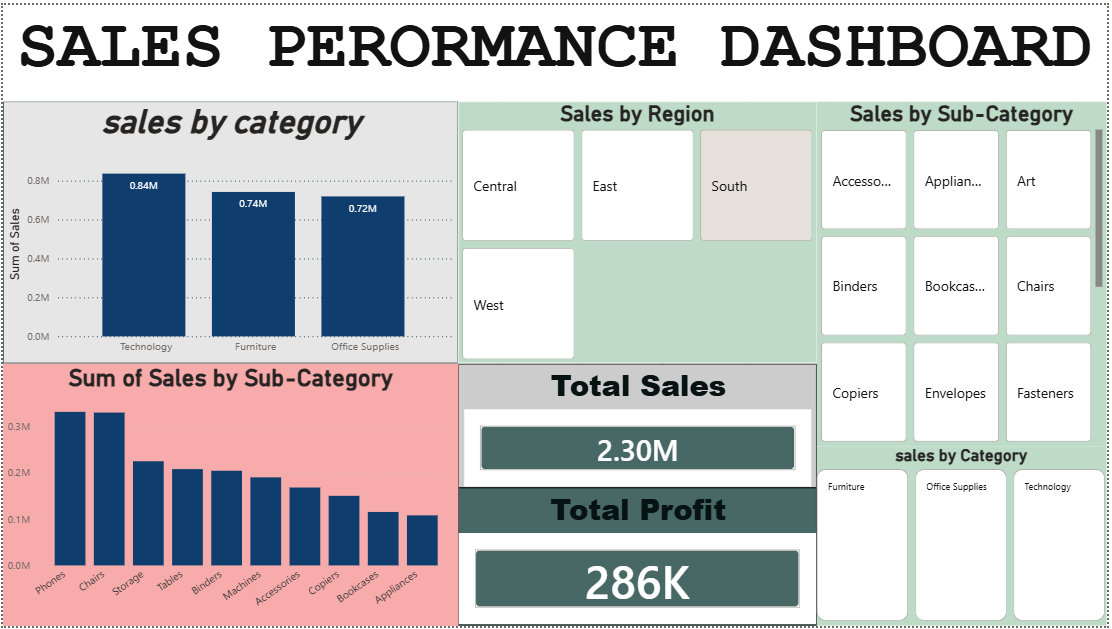

What the dashboard file says about the page in this screenshot:
{"tool":"powerbi","page":{"name":"Page 1","canvas":[1280,720],"ordinal":0},"visuals":[{"type":"clusteredColumnChart","title":"sales by category","fields":{"Category":["SampleSuperstore.Category"],"Y":["Sum(SampleSuperstore.Sales)"]},"box":[0,112,528,304],"z":0},{"type":"cardVisual","title":"Total Sales","fields":{"Data":["Sum(SampleSuperstore.Sales)"]},"box":[528,416,416,144],"z":1000},{"type":"cardVisual","title":"Total Profit","fields":{"Data":["Sum(SampleSuperstore.Profit)"]},"box":[528,560,416,160],"z":2000},{"type":"clusteredColumnChart","fields":{"Category":["SampleSuperstore.Sub-Category"],"Y":["Sum(SampleSuperstore.Sales)"]},"box":[0,416,528,304],"z":3000},{"type":"advancedSlicerVisual","title":"Sales by Region","fields":{"Values":["SampleSuperstore.Region"]},"box":[528,112,416,304],"z":4000},{"type":"advancedSlicerVisual","title":"sales by Category","fields":{"Values":["SampleSuperstore.Category"]},"box":[944,512,336,208],"z":4001},{"type":"advancedSlicerVisual","title":"Sales by Sub-Category","fields":{"Values":["SampleSuperstore.Sub-Category"]},"box":[944,112,336,400],"z":4002},{"type":"textbox","box":[0,0,1280,112],"z":4003}]}

Visuals, with their boxes in screenshot pixels (x1, y1, x2, y2), scaled from the page's 1280x720 canvas onto the 1112x629 screenshot:
"sales by category" clusteredColumnChart: pyautogui.locateOnScreen(0, 98, 459, 363)
"Total Sales" cardVisual: pyautogui.locateOnScreen(459, 363, 820, 489)
"Total Profit" cardVisual: pyautogui.locateOnScreen(459, 489, 820, 628)
clusteredColumnChart - SampleSuperstore.Sub-Category x Sum(SampleSuperstore.Sales): pyautogui.locateOnScreen(0, 363, 459, 628)
"Sales by Region" advancedSlicerVisual: pyautogui.locateOnScreen(459, 98, 820, 363)
"sales by Category" advancedSlicerVisual: pyautogui.locateOnScreen(820, 447, 1111, 628)
"Sales by Sub-Category" advancedSlicerVisual: pyautogui.locateOnScreen(820, 98, 1111, 447)
textbox: pyautogui.locateOnScreen(0, 0, 1111, 98)
